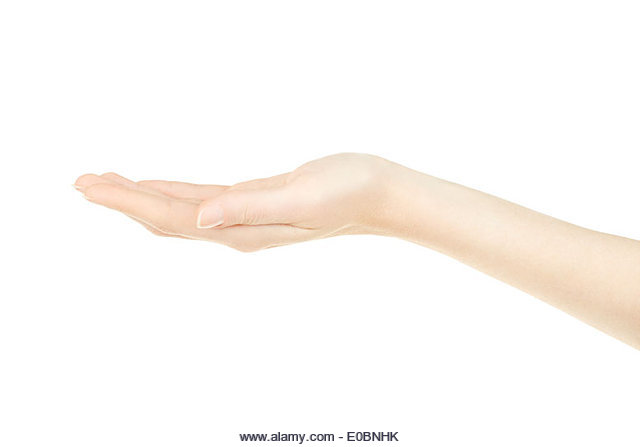hand: (46, 122, 406, 272)
